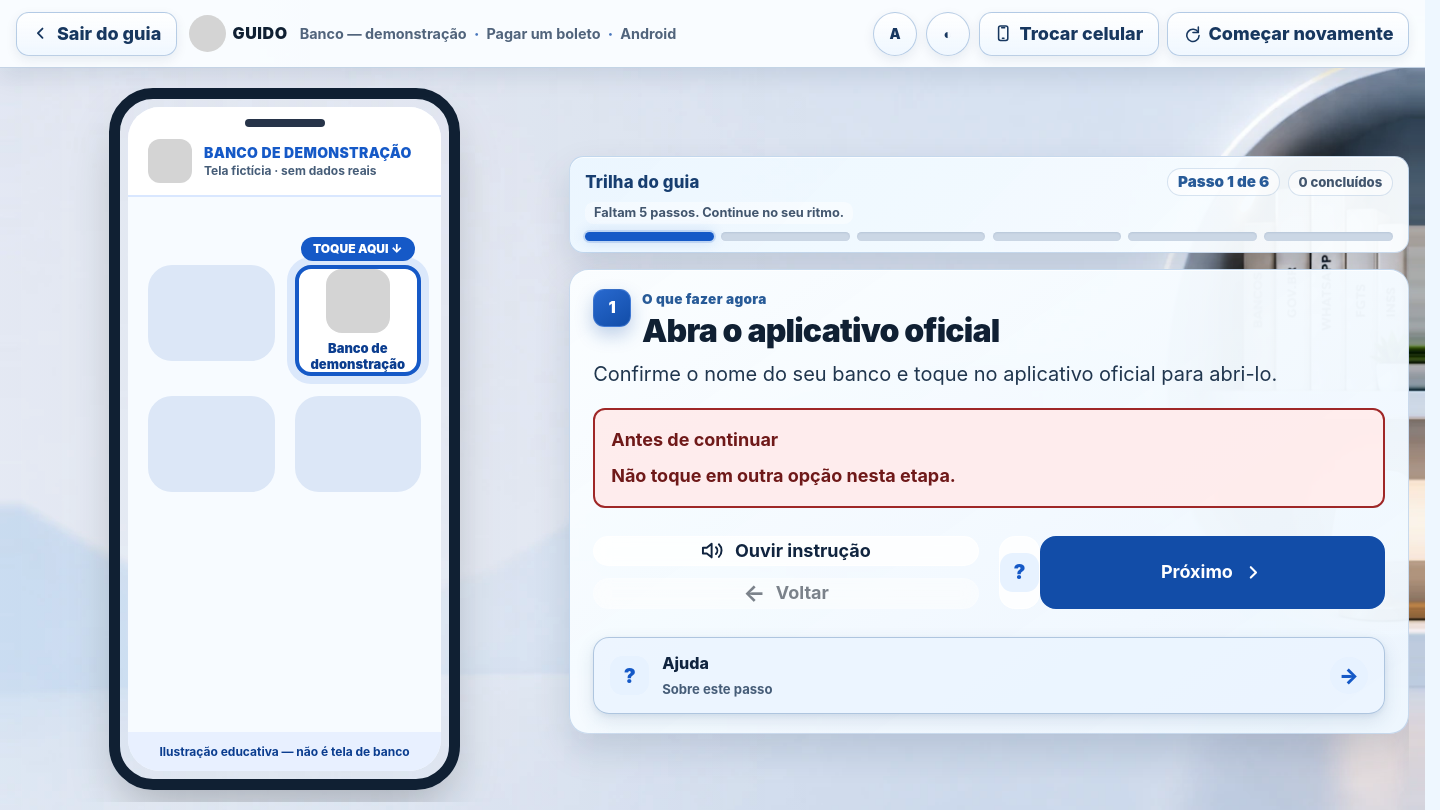
Test: visualizador do guia › mostra o aviso específico do passo dentro da ajuda
Expected: the text "Passo 1 de 6" is shown, [1168,168,1280,196]
Click the button named "Ajuda" at (1020, 572), box [999,536,1040,609]
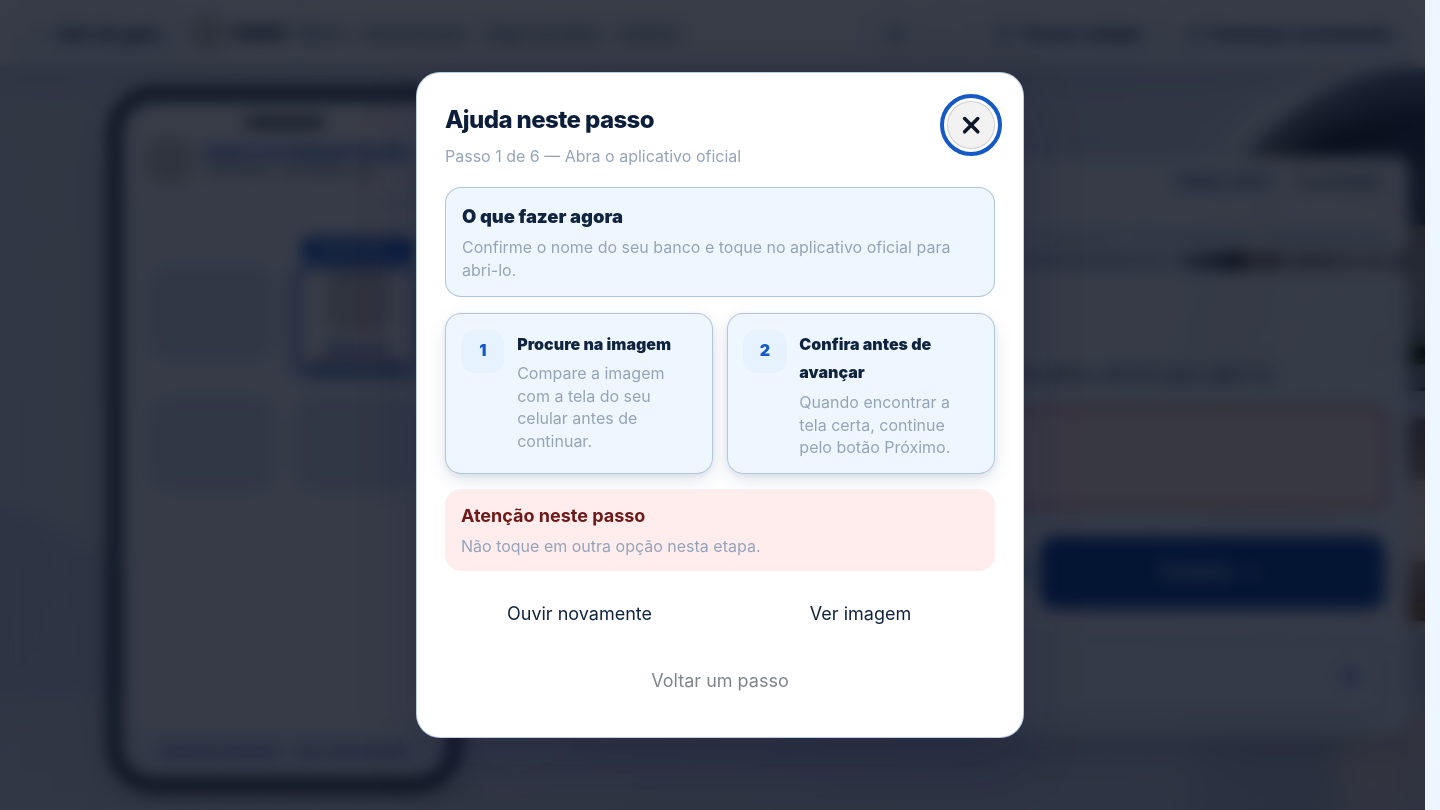
Expected: the text "Atenção neste passo" is shown, [461,506,645,526]
Expected: the text "Não toque em outra opção nesta etapa." is shown, [461,536,760,556]
